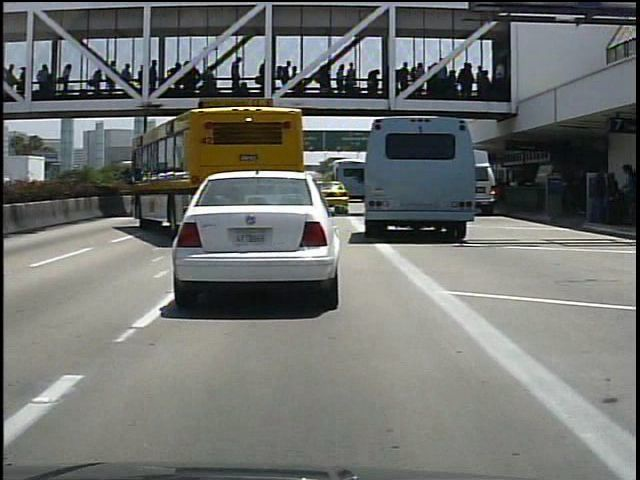person: (591, 162, 622, 223), (612, 160, 638, 226)
